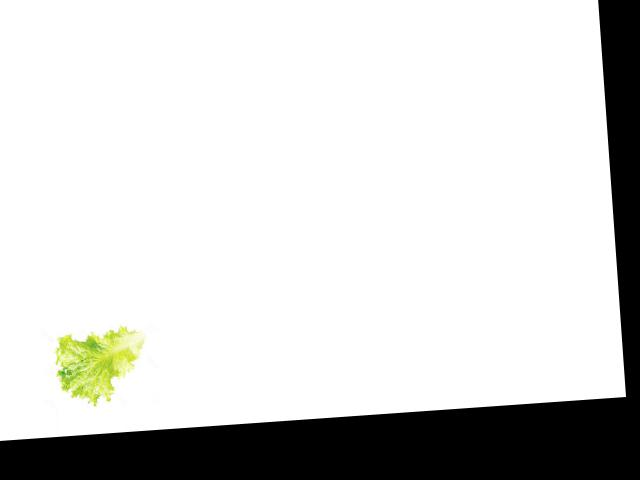lettuce: (53, 328, 151, 407)
